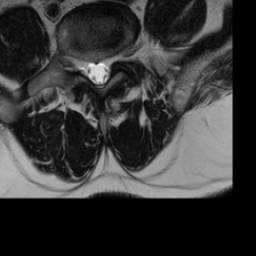CCS_normal: (93, 50, 100, 94)
LFS_stenosis: (110, 40, 119, 69)
LLS_normal: (100, 50, 110, 91)
RFS_normal: (75, 46, 84, 85)
RLS_normal: (84, 50, 93, 87)
